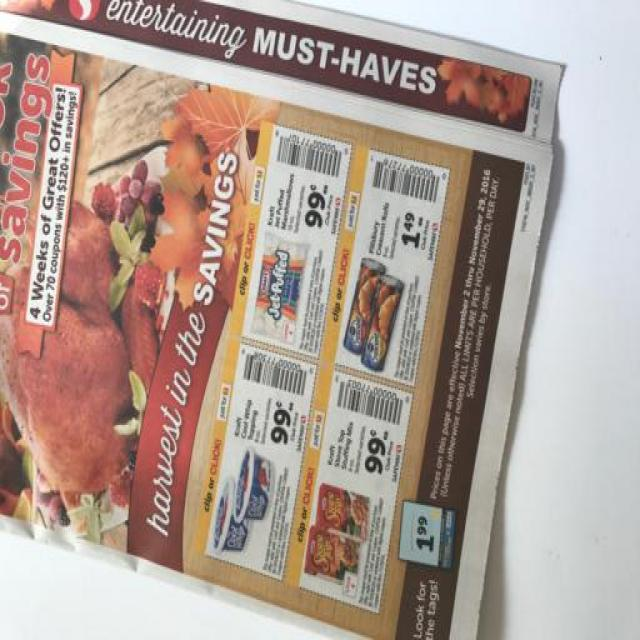paper: (1, 1, 576, 640)
